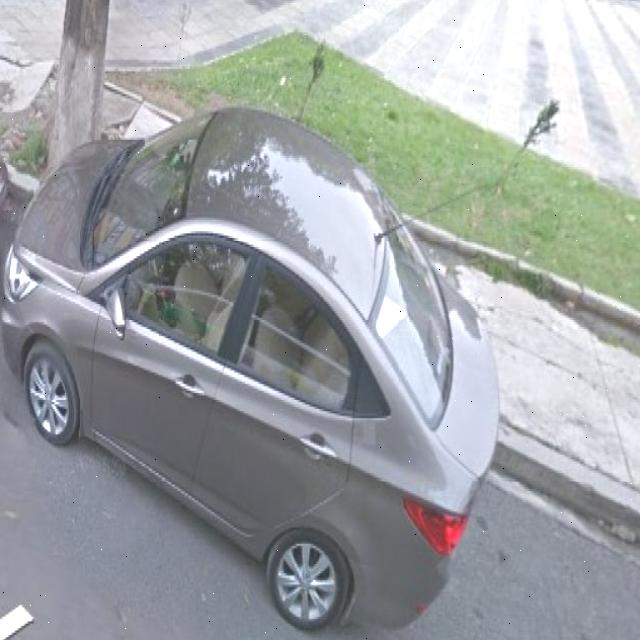car: (0, 121, 501, 630)
